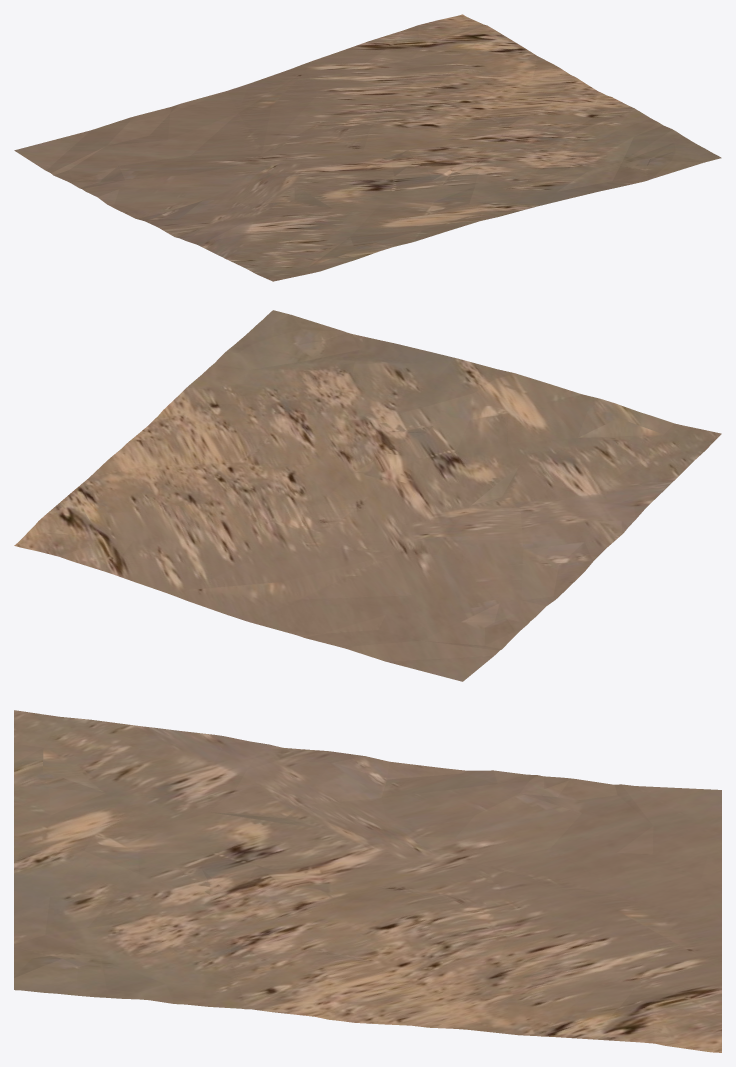
3 views of the same model, one above another, from view 1: azimuth 30°, elevation 25°; view 2: azimuth 150°, elevation 25°; view 3: azimuth 270°, elevation 25° (orthographic). The views are drawn at different scales.
Size of the model in its own units: 4.18 by 0.6454 by 4.18.
Materials: 2 (2 with a texture image).
